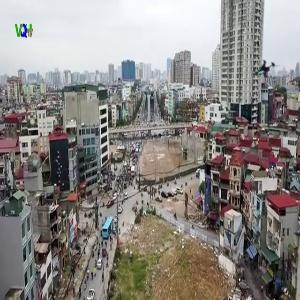drone: (240, 43, 291, 94)
